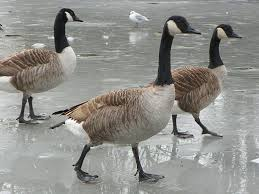Walking: (1, 5, 248, 194)
